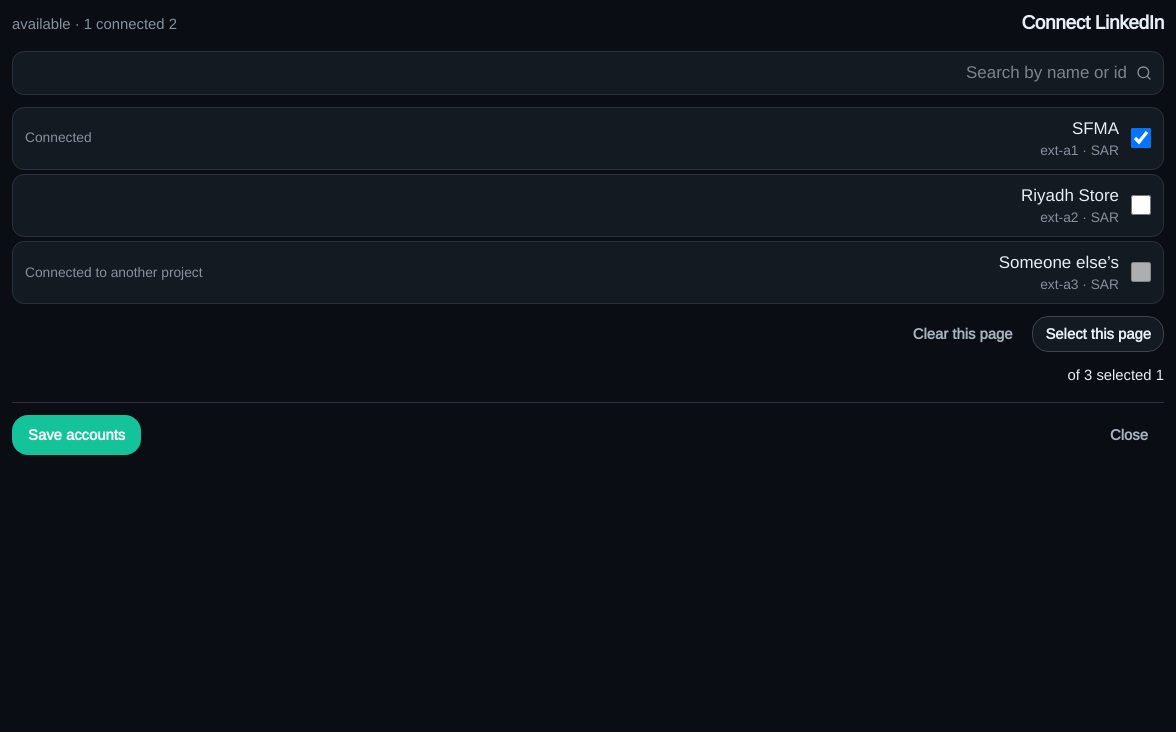
Scenario: managing the accounts of a connected source › says so when the save is refused, rather than going quiet
The width and height of the screenshot is (1176, 732).
Click the button with test id "wizard-save-selection". click: [77, 435]
box: [12,415,141,455]
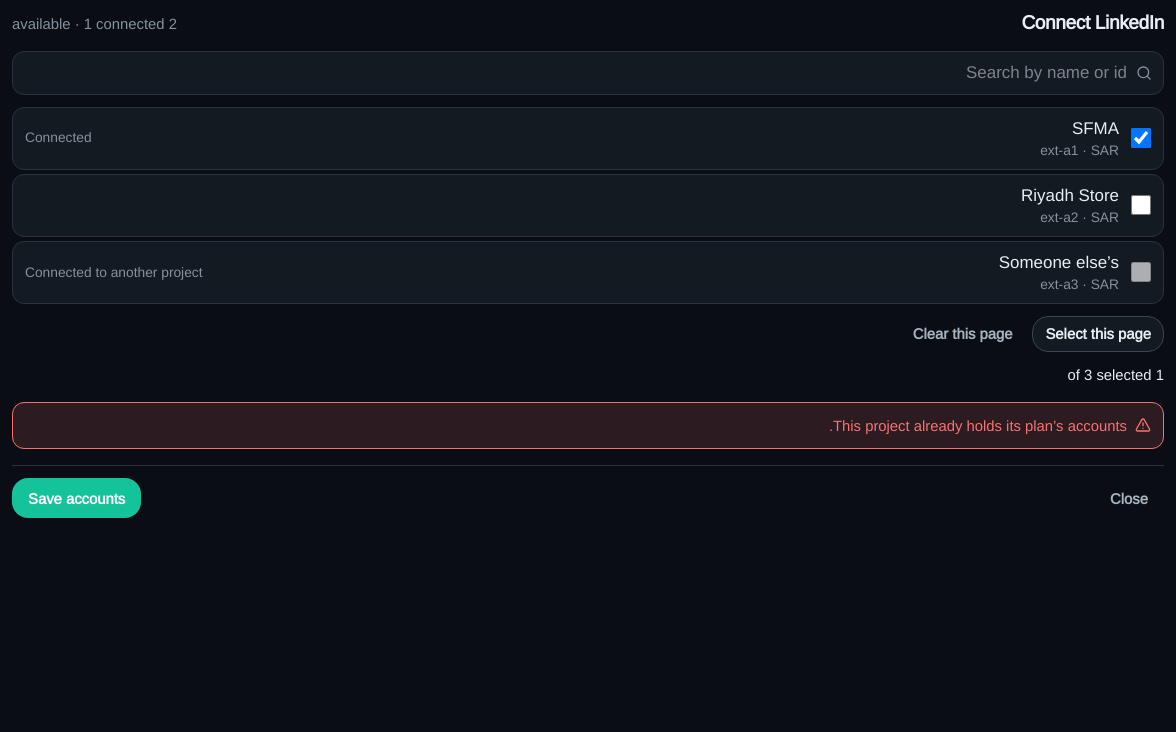
Result: the element with test id "wizard-save-error" shows "plan" at [829,417,1127,434]
